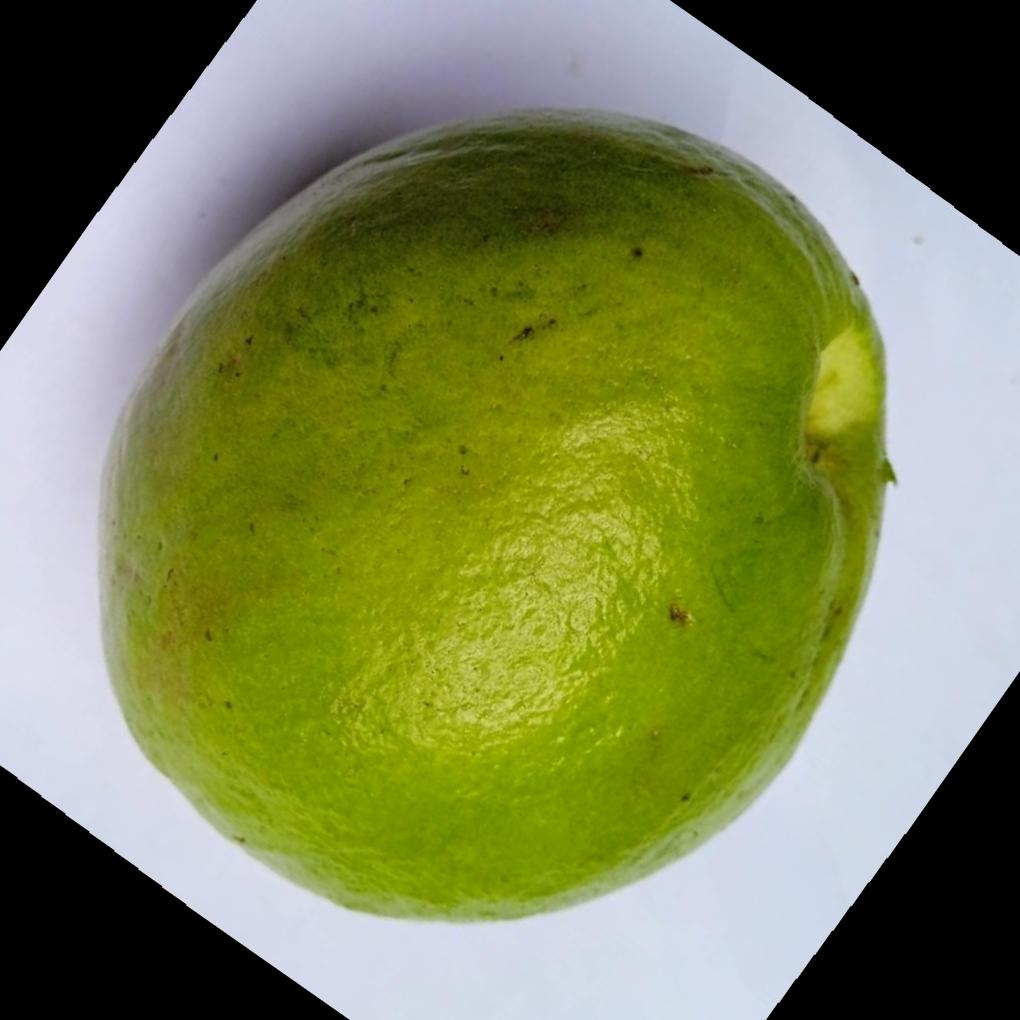FreshGuava: (96, 102, 897, 923)
